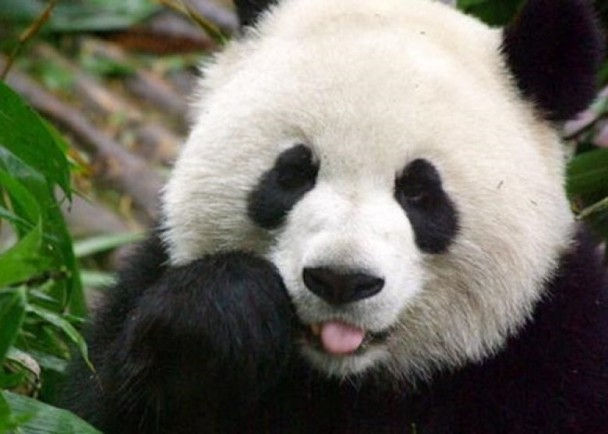panda: (50, 2, 607, 434)
